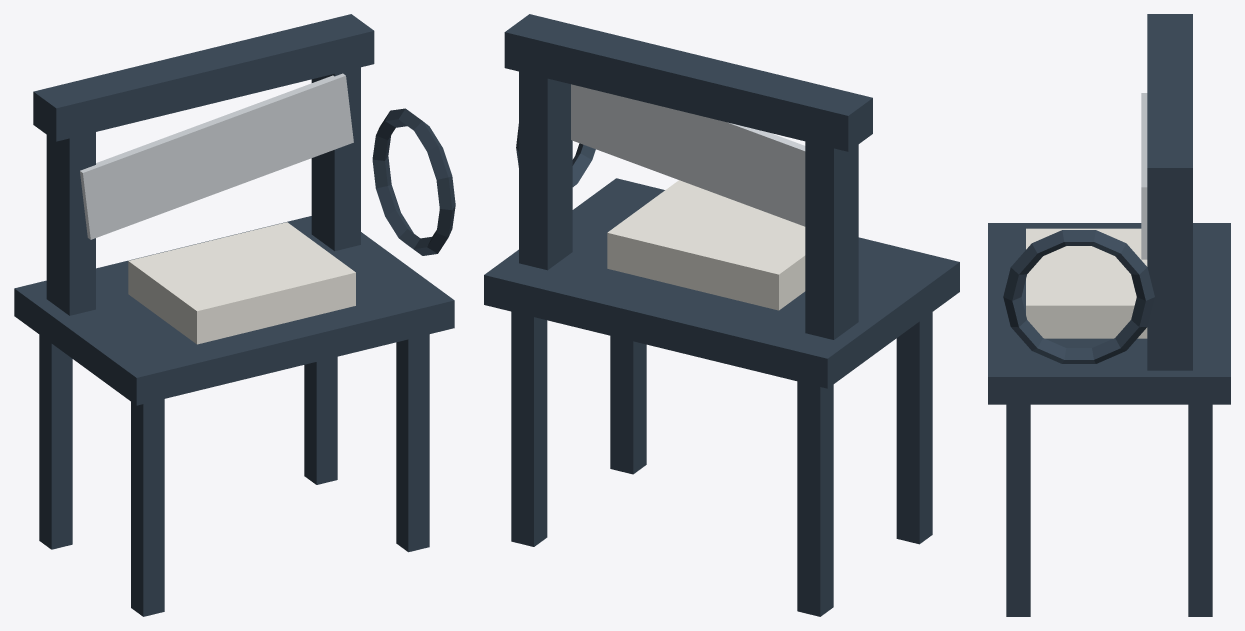
The model's file is paper_guillotine.glb.
The picture shows the model from 3 angles, left to right: view 1: azimuth 30°, elevation 25°; view 2: azimuth 150°, elevation 25°; view 3: azimuth 270°, elevation 25°; orthographic projection. The views are drawn at different scales.
Parts seen in each view (by area): view 1: table_guillotine_iron, leg_guillotine_iron, blade_guillotine_blade, paper_paper_white, beam_guillotine_iron, frame_guillotine_iron, wheel_guillotine_iron; view 2: table_guillotine_iron, leg_guillotine_iron, beam_guillotine_iron, frame_guillotine_iron, paper_paper_white, blade_guillotine_blade, wheel_guillotine_iron; view 3: table_guillotine_iron, leg_guillotine_iron, paper_paper_white, beam_guillotine_iron, frame_guillotine_iron, wheel_guillotine_iron, blade_guillotine_blade.
Boxes of the visible parts, x1,y1,x2,y2 form: table_guillotine_iron: (14, 216, 454, 405); leg_guillotine_iron: (39, 334, 429, 616); blade_guillotine_blade: (80, 73, 353, 239); paper_paper_white: (128, 222, 355, 344); beam_guillotine_iron: (33, 14, 374, 141); frame_guillotine_iron: (46, 50, 360, 315); wheel_guillotine_iron: (372, 108, 455, 255); table_guillotine_iron: (484, 178, 959, 388); leg_guillotine_iron: (511, 311, 932, 616); beam_guillotine_iron: (504, 14, 872, 151); frame_guillotine_iron: (519, 53, 858, 339); paper_paper_white: (607, 180, 805, 310); blade_guillotine_blade: (571, 84, 805, 226); wheel_guillotine_iron: (516, 124, 595, 186); table_guillotine_iron: (988, 223, 1230, 404); leg_guillotine_iron: (1006, 404, 1212, 616); paper_paper_white: (1026, 228, 1147, 338); beam_guillotine_iron: (1147, 14, 1192, 200); frame_guillotine_iron: (1147, 201, 1192, 370); wheel_guillotine_iron: (1003, 230, 1154, 363); blade_guillotine_blade: (1141, 93, 1147, 259).
Size of the model in its own units: 1.25 by 1.66 by 0.8.
